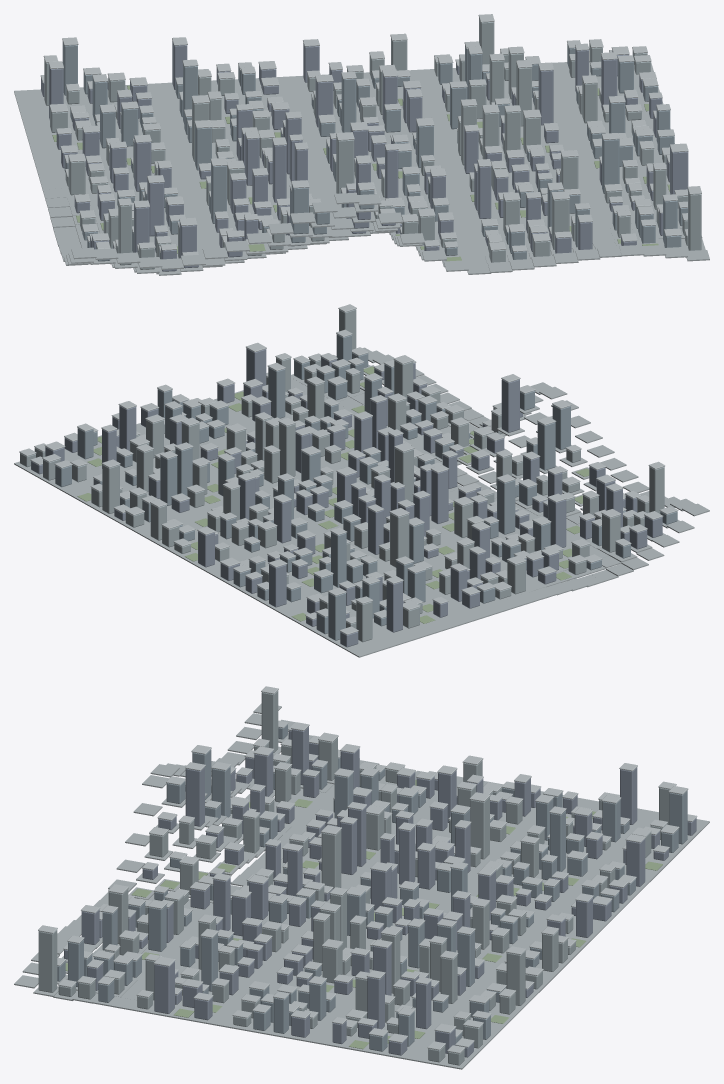
Rendered from city.glb.
3 views of the same model, one above another, from view 1: azimuth 30°, elevation 25°; view 2: azimuth 150°, elevation 25°; view 3: azimuth 270°, elevation 25° (orthographic). The views are drawn at different scales.
Parts seen in each view (by area): view 1: city; view 2: city; view 3: city.
Boxes of the visible parts, x1=… form: city: x1=14, y1=14, x2=709, y2=275; city: x1=14, y1=304, x2=709, y2=657; city: x1=14, y1=686, x2=709, y2=1069.
Size of the model in its own units: 30.42 by 4.45 by 27.33.
